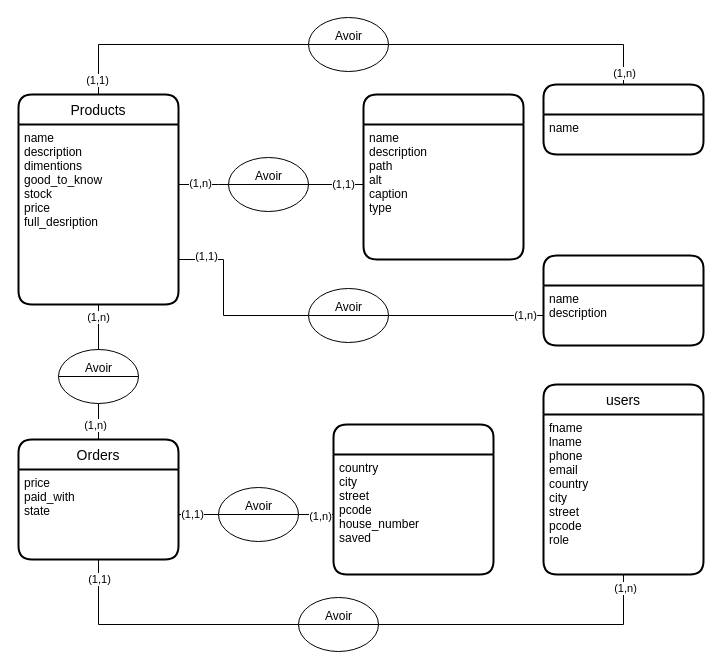
Some shapes in this 721 by 669 pixel diagram are drawn without their labels. Here are the shapes that lost their labels. From the top down, the box of each, then its label:
(542, 83, 704, 155): categorys
(362, 93, 524, 260): product_gallerys
(542, 254, 704, 346): materials
(332, 423, 494, 575): shipping_adresses
